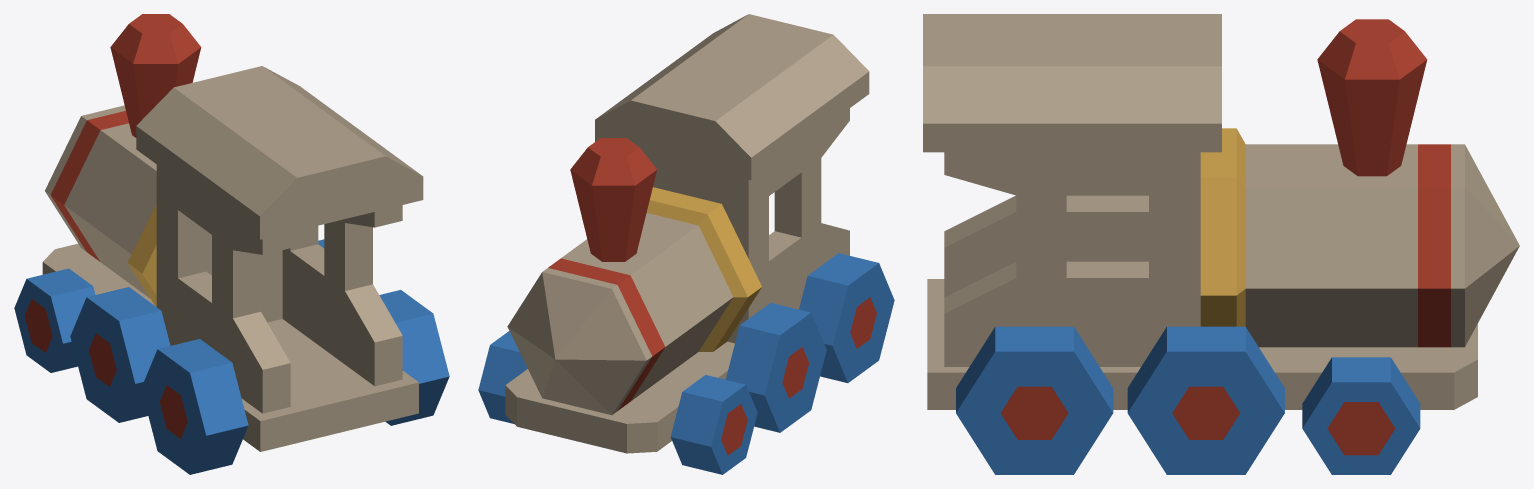
Rendered from SM_Prop_ToyTrain_01.fbx.
3 views of the same model, side by side, from view 1: azimuth 30°, elevation 25°; view 2: azimuth 150°, elevation 25°; view 3: azimuth 270°, elevation 25° (orthographic). The views are drawn at different scales.
Visible parts, largest first — view 1: SM_Prop_ToyTrain_01; view 2: SM_Prop_ToyTrain_01; view 3: SM_Prop_ToyTrain_01.
Part boxes in pixels (x1,y1,x2,y2): SM_Prop_ToyTrain_01: (14,14,449,474); SM_Prop_ToyTrain_01: (478,14,894,474); SM_Prop_ToyTrain_01: (923,14,1519,474).
Size of the model in its own units: 20.63 by 24.88 by 36.2.
